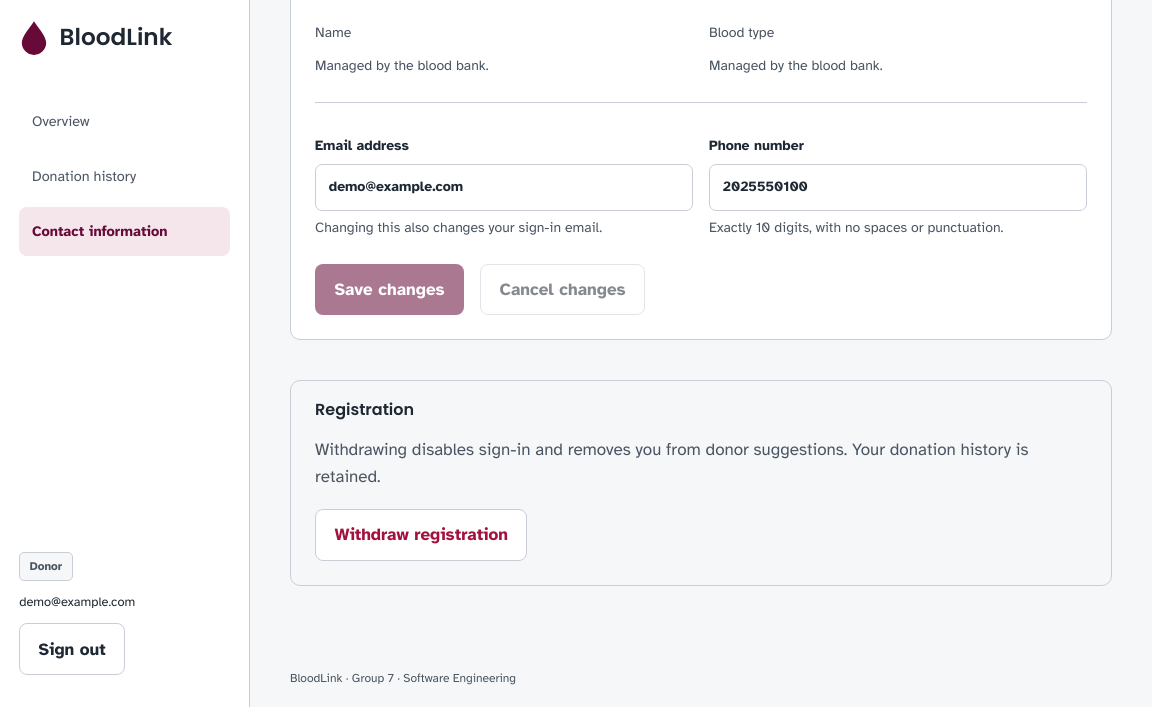
Test case: withdrawal clears the session and reports retained history
This screenshot has width=1152, height=707.
(page scrolled)
Click the button "Withdraw registration".
click(421, 535)  # box [315,509,527,561]
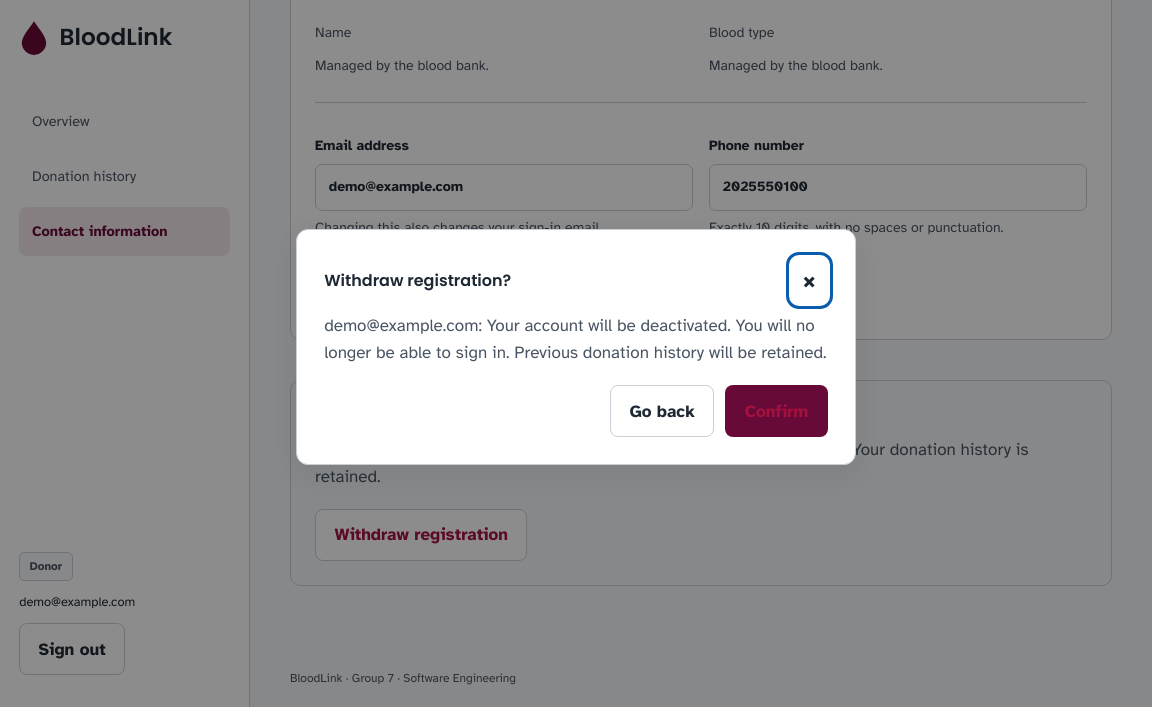
Click the button "Confirm".
click(777, 411)  # box [725,385,828,437]
(page scrolled)
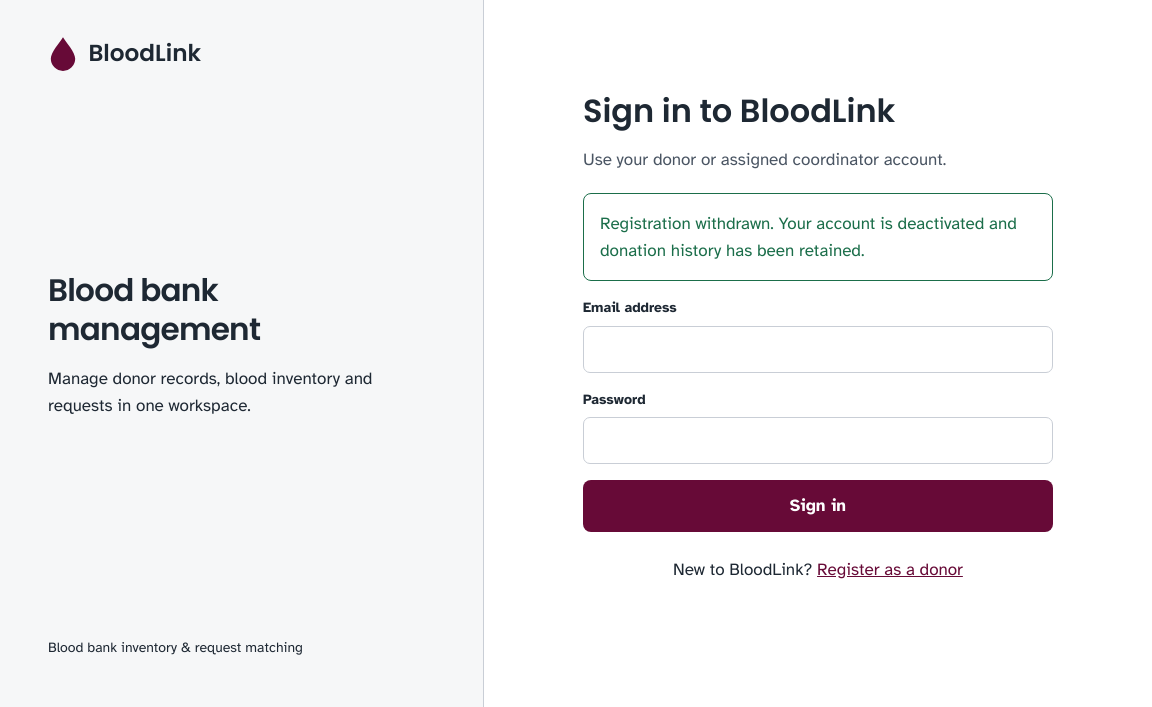
Expected: the heading "Sign in to BloodLink" is shown, [583,88,895,133]
Expected: the text "Registration withdrawn" is shown, [600,213,1017,261]
